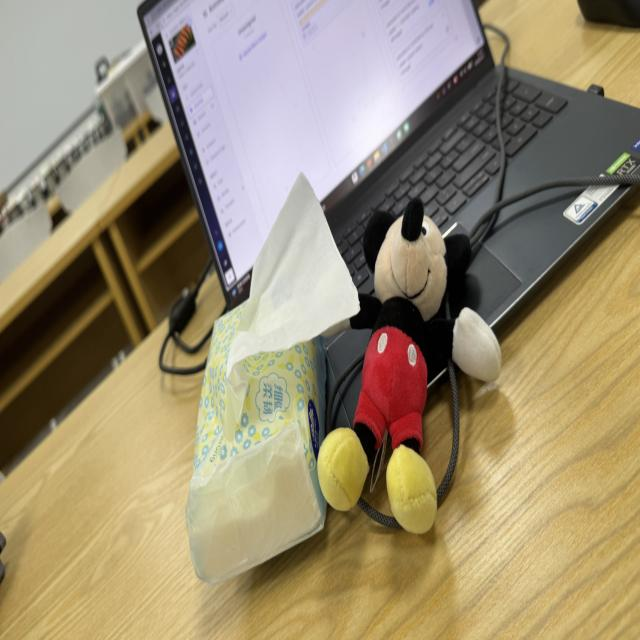mickey: (318, 199, 500, 533)
tissue: (186, 174, 359, 583), (186, 306, 326, 583), (223, 174, 359, 439)
